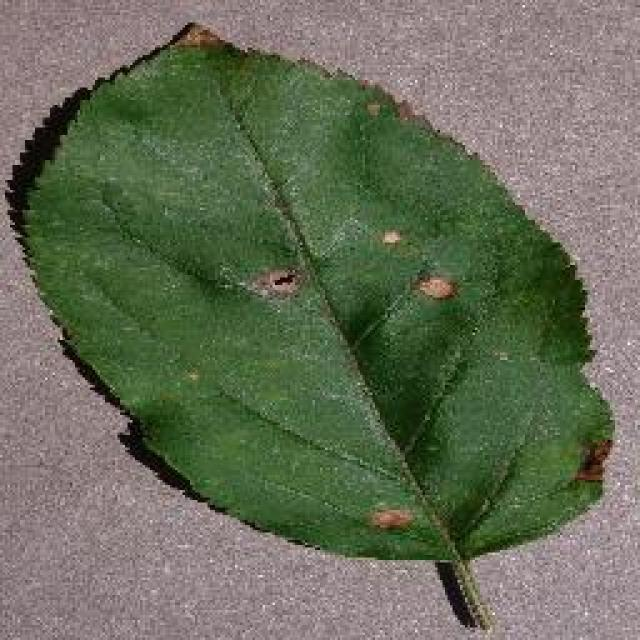apple black rot: (0, 18, 615, 630)
